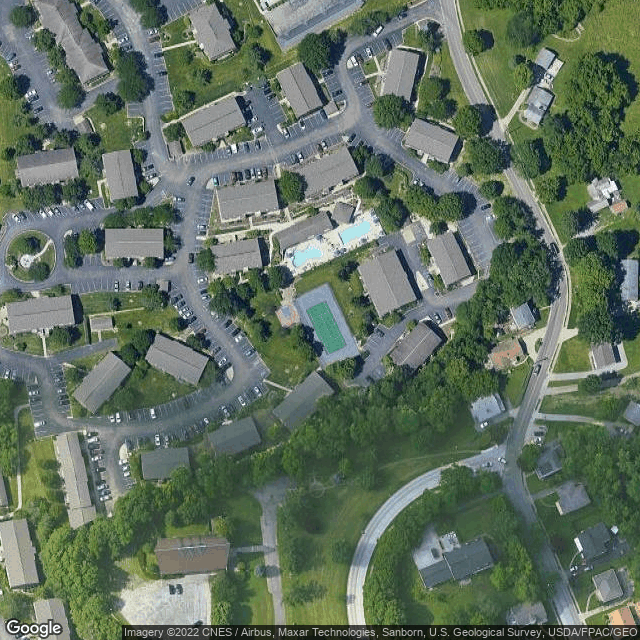Court: (306, 301, 346, 354)
